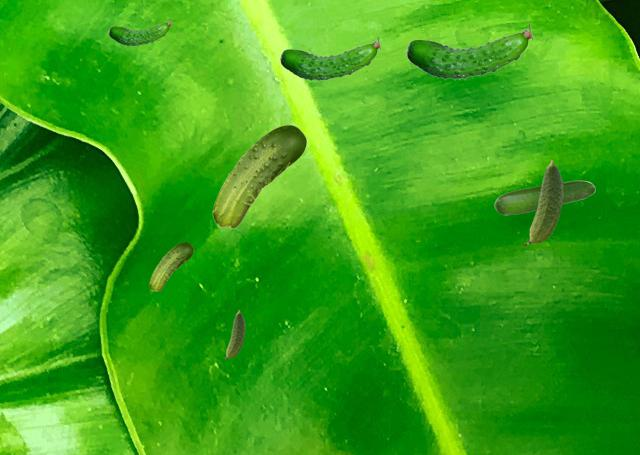cucumber: (212, 125, 305, 227), (405, 23, 531, 79), (279, 36, 379, 80), (494, 180, 594, 214), (524, 160, 562, 244), (149, 242, 192, 290), (108, 18, 170, 45), (223, 310, 244, 358)
